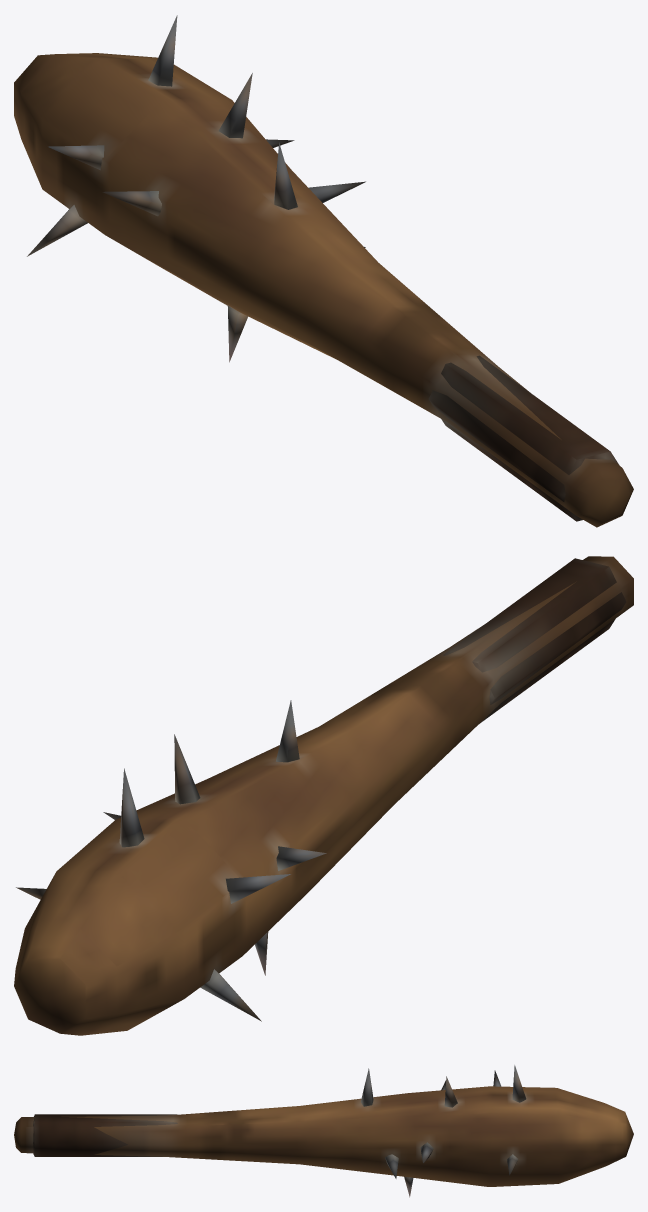
The model's file is Prop_Club.fbx.
The picture shows the model from 3 angles, top to bottom: view 1: azimuth 30°, elevation 25°; view 2: azimuth 150°, elevation 25°; view 3: azimuth 270°, elevation 25°; orthographic projection. The views are drawn at different scales.
Visible parts, largest first — view 1: Prop_Club; view 2: Prop_Club; view 3: Prop_Club.
Boxes of the visible parts, x1=… form: Prop_Club: x1=14, y1=15, x2=633, y2=527; Prop_Club: x1=14, y1=556, x2=633, y2=1035; Prop_Club: x1=14, y1=1065, x2=633, y2=1197.
Bounding box in the file's own units: 0.121 × 0.1182 × 0.4568.
